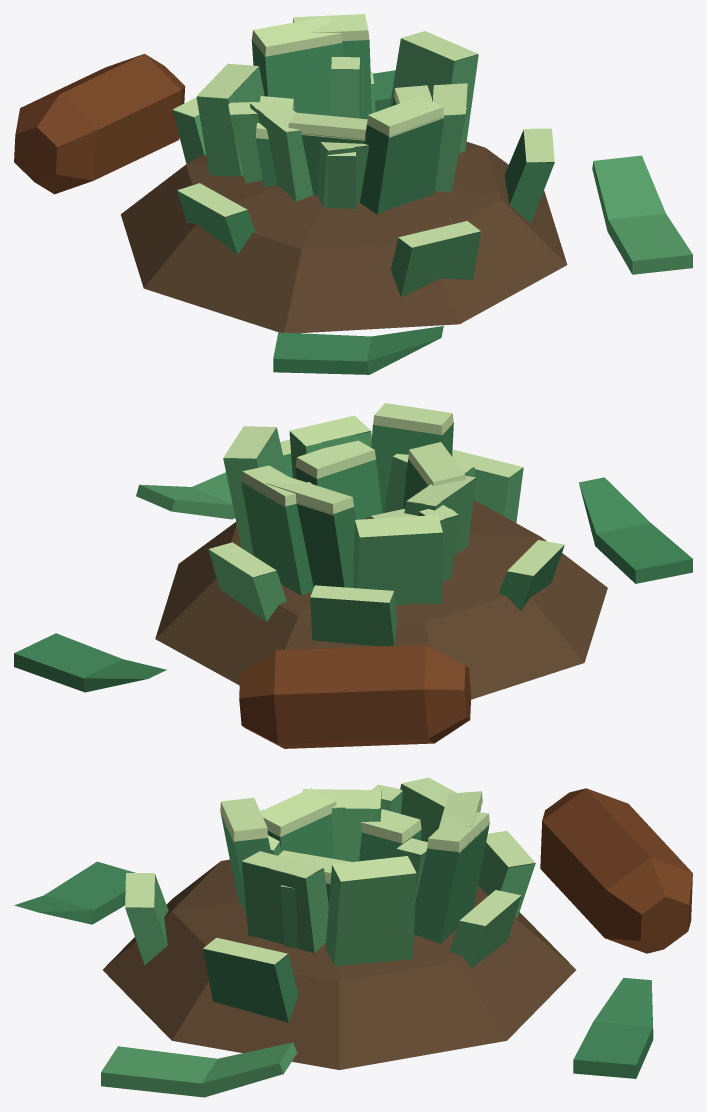
The model's file is tuft_reeds_cut.glb.
3 views of the same model, one above another, from view 1: azimuth 30°, elevation 25°; view 2: azimuth 150°, elevation 25°; view 3: azimuth 270°, elevation 25° (orthographic). The views are drawn at different scales.
Visible parts, largest first — view 1: Mud__5E462E, Grass__549E66, Grass__408A58, SmoothPlastic__CEECAA, Fabric__744222; view 2: Mud__5E462E, Grass__408A58, Grass__549E66, Fabric__744222, SmoothPlastic__CEECAA; view 3: Mud__5E462E, Grass__549E66, Grass__408A58, SmoothPlastic__CEECAA, Fabric__744222.
Boxes of the visible parts, x1=… form: Mud__5E462E: x1=120, y1=142, x2=567, y2=333; Grass__549E66: x1=172, y1=38, x2=692, y2=297; Grass__408A58: x1=177, y1=39, x2=554, y2=374; SmoothPlastic__CEECAA: x1=173, y1=14, x2=554, y2=247; Fabric__744222: x1=14, y1=53, x2=185, y2=194; Mud__5E462E: x1=155, y1=500, x2=607, y2=699; Grass__408A58: x1=14, y1=423, x2=692, y2=692; Grass__549E66: x1=136, y1=427, x2=523, y2=646; Fabric__744222: x1=239, y1=645, x2=471, y2=748; SmoothPlastic__CEECAA: x1=209, y1=403, x2=564, y2=602; Mud__5E462E: x1=103, y1=859, x2=575, y2=1069; Grass__549E66: x1=101, y1=784, x2=535, y2=1097; Grass__408A58: x1=14, y1=808, x2=653, y2=1078; SmoothPlastic__CEECAA: x1=125, y1=777, x2=535, y2=964; Fabric__744222: x1=540, y1=788, x2=692, y2=953.
Bounding box in the file's own units: 3.69 × 1.29 × 4.44.
